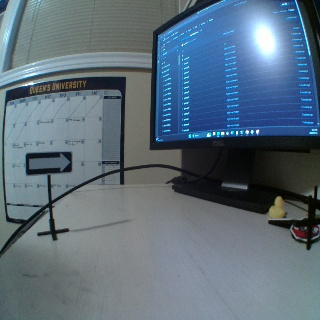sign_oneway_right: (23, 151, 73, 173)
